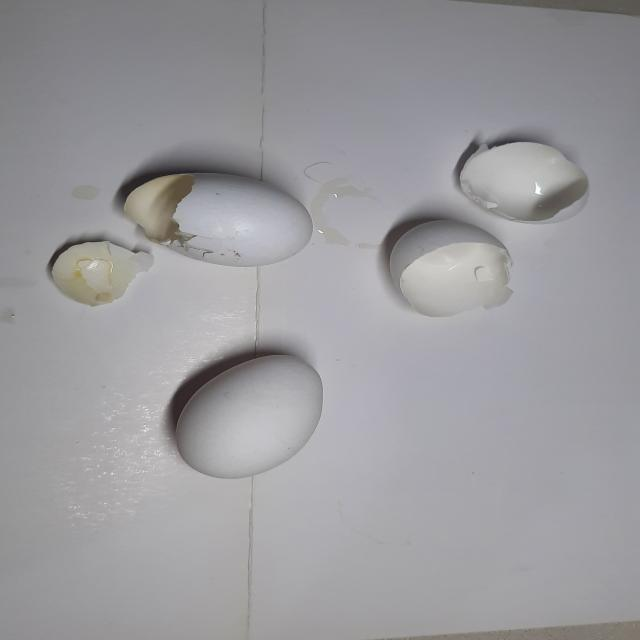egg shell: (114, 170, 316, 271), (173, 352, 326, 481), (386, 218, 518, 319), (456, 138, 592, 226), (49, 235, 157, 305)
